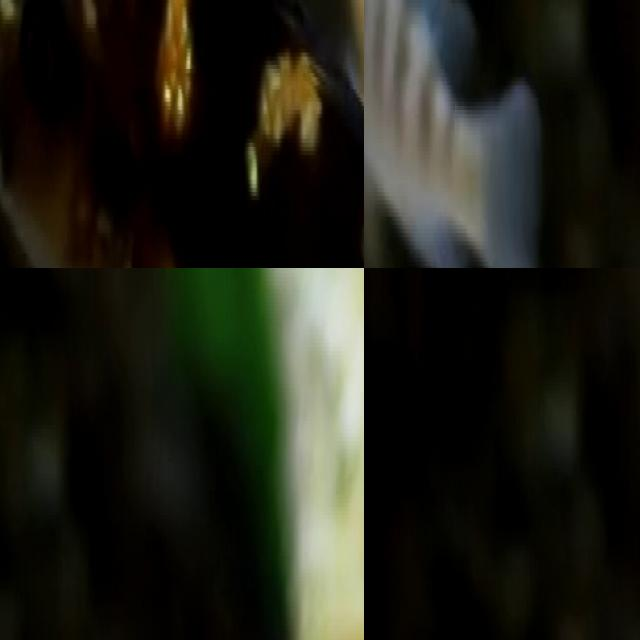fish: (0, 0, 364, 268), (364, 0, 538, 265)
